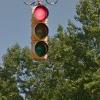Traffic light: (22, 2, 60, 62)
